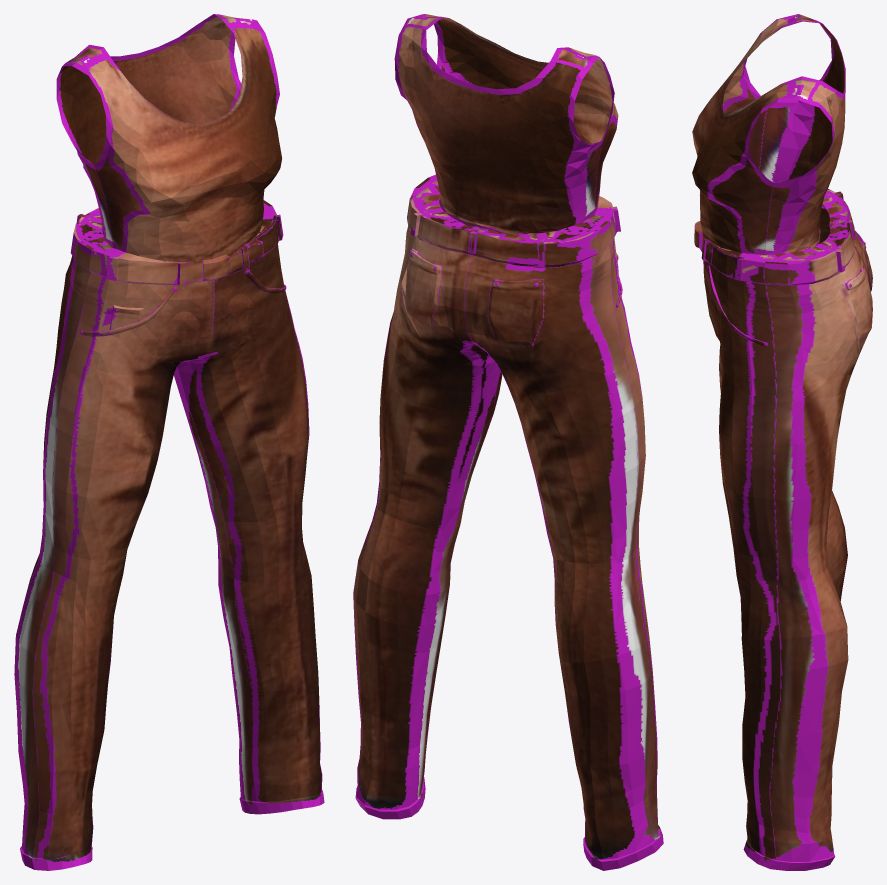
The picture shows the model from 3 angles, left to right: view 1: azimuth 30°, elevation 25°; view 2: azimuth 150°, elevation 25°; view 3: azimuth 270°, elevation 25°; orthographic projection. The views are drawn at different scales.
Bounding box in the file's own units: 0.355 × 0.9308 × 0.1994.
Materials: 1 (1 with a texture image).
